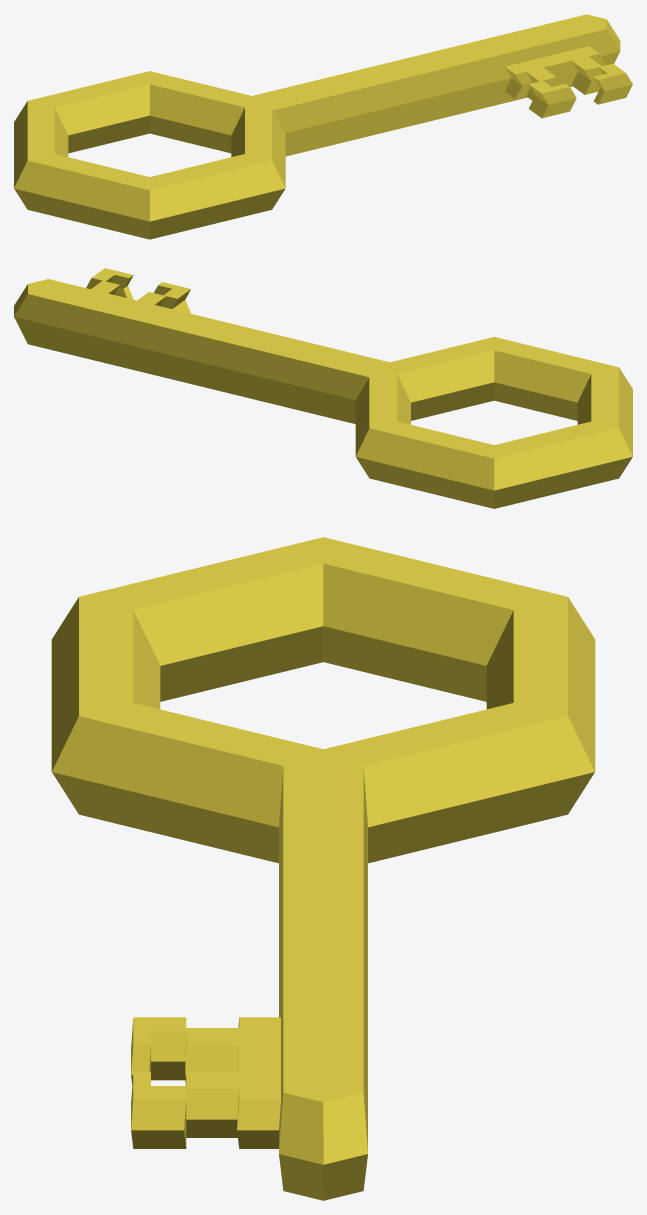
Rendered from key.glb.
3 renders of one model, top to bottom at view 1: azimuth 30°, elevation 25°; view 2: azimuth 150°, elevation 25°; view 3: azimuth 270°, elevation 25°, orthographic. The views are drawn at different scales.
Parts seen in each view (by area): view 1: Torus.002; view 2: Torus.002; view 3: Torus.002.
Part boxes in pixels (x1,y1,x2,y2): Torus.002: (14, 14, 632, 239); Torus.002: (14, 268, 632, 508); Torus.002: (51, 537, 595, 1200).
Bounding box in the file's own units: 0.454 × 0.0352 × 0.1762.
